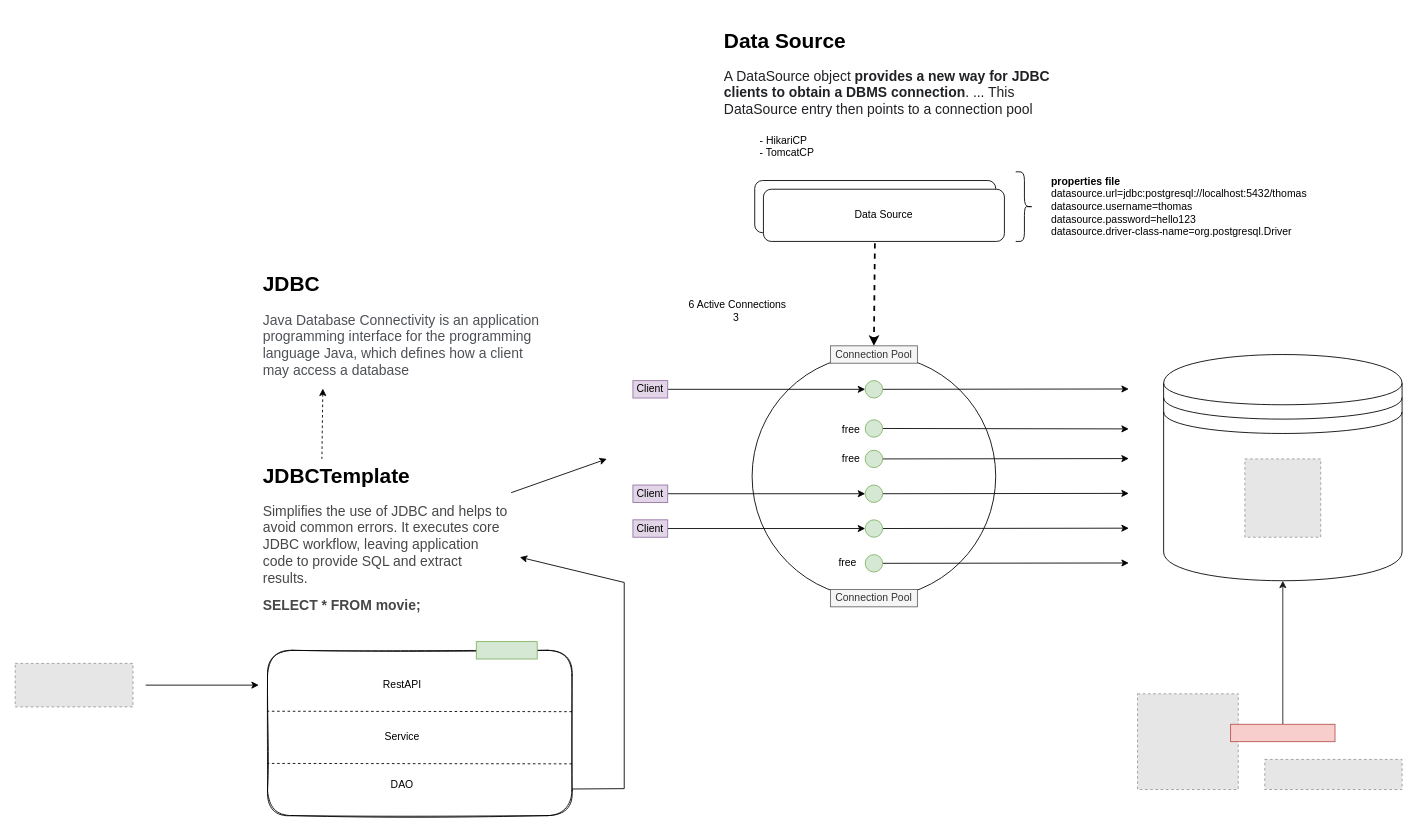
The diagram is 1418 pixels wide and 831 high, and some of its shapes have lost their labels. Grey dashed boxes stand in for pictures. Here are the shapes that lost their labels. From the top down, the centre of each, then its label:
(x=506, y=650): backend
(x=1282, y=732): Database Migration
